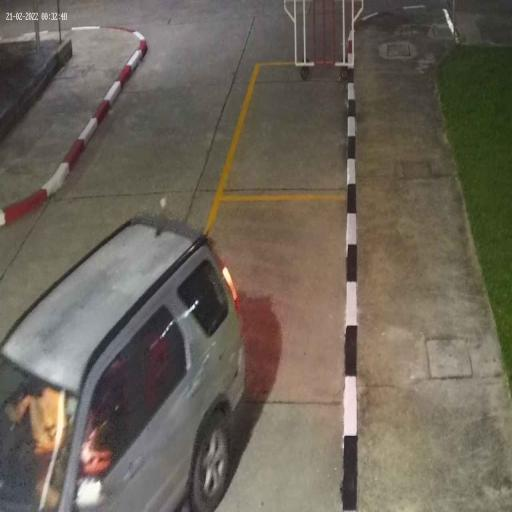car: (1, 217, 246, 512)
